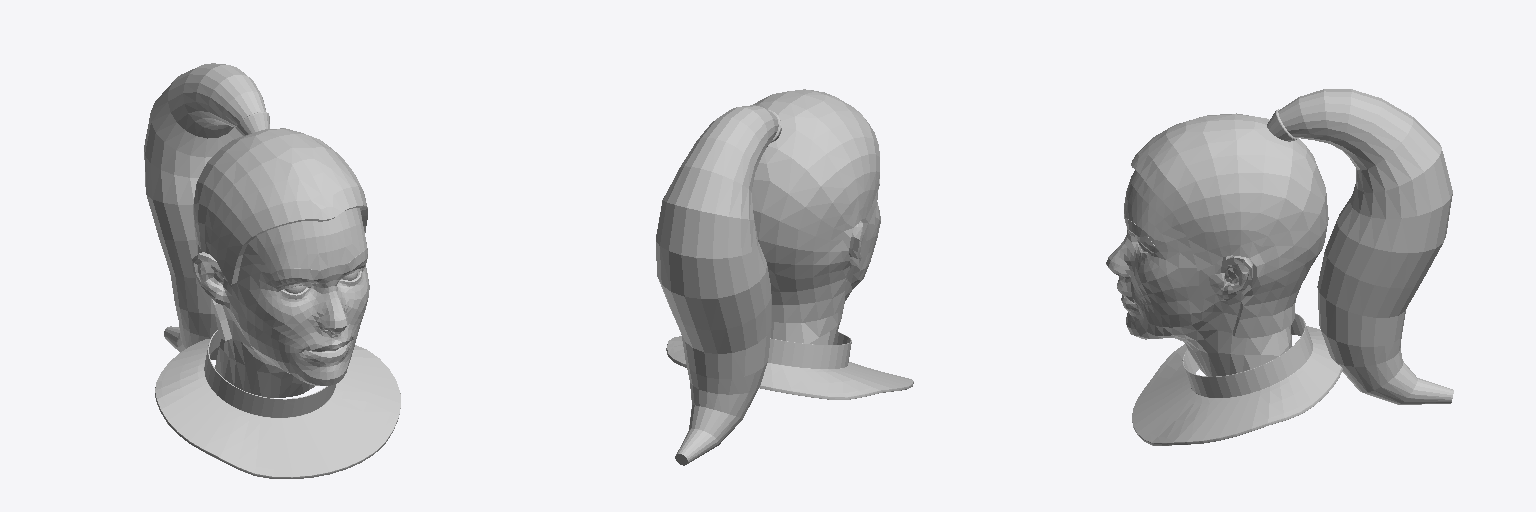
The model's file is Female_Avatar_With_Long hair.obj.
3 renders of one model, left to right at view 1: azimuth 30°, elevation 25°; view 2: azimuth 150°, elevation 25°; view 3: azimuth 270°, elevation 25°, orthographic.
Parts seen in each view (by area): view 1: Female_Avatar_With_Long_hair; view 2: Female_Avatar_With_Long_hair; view 3: Female_Avatar_With_Long_hair.
Part boxes in pixels (bbox=[...]): Female_Avatar_With_Long_hair: bbox=[144, 63, 400, 478]; Female_Avatar_With_Long_hair: bbox=[656, 89, 913, 465]; Female_Avatar_With_Long_hair: bbox=[1106, 89, 1453, 445].
Bounding box in the file's own units: 53.74 × 76.06 × 72.85.